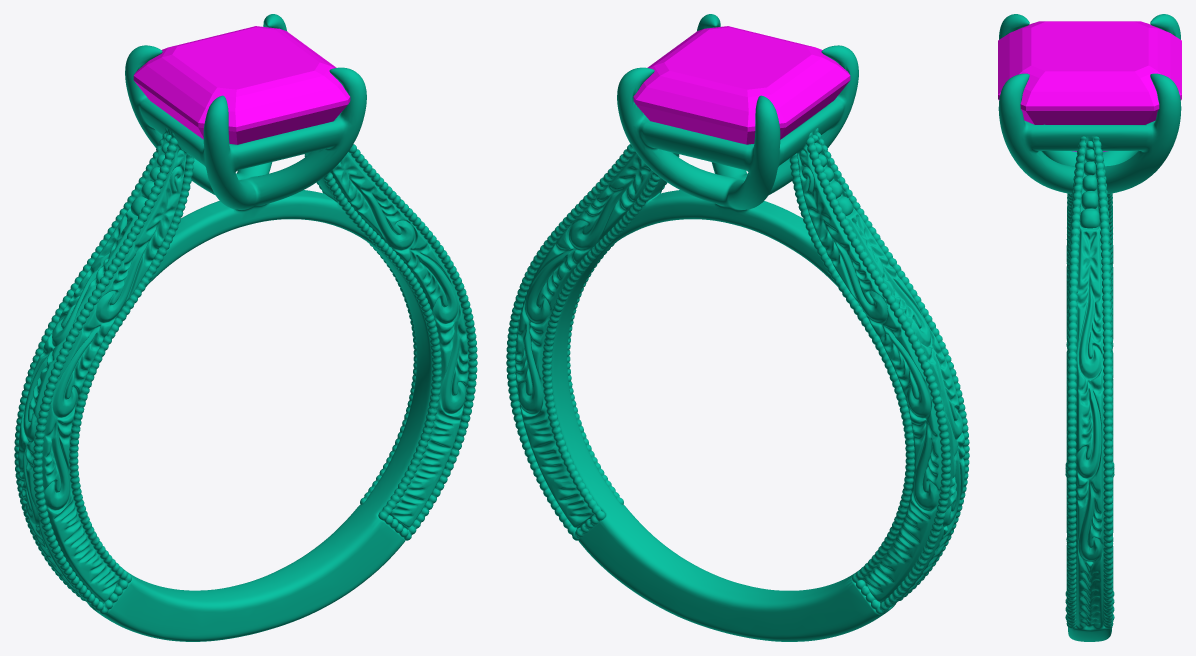
Rendered from BE1342_AS_200ct_RENDER.glb.
The picture shows the model from 3 angles, left to right: view 1: azimuth 30°, elevation 25°; view 2: azimuth 150°, elevation 25°; view 3: azimuth 270°, elevation 25°; orthographic projection.
Parts seen in each view (by area): view 1: Metal 01, CS_Diamond_Asscher; view 2: Metal 01, CS_Diamond_Asscher; view 3: Metal 01, CS_Diamond_Asscher.
Boxes of the visible parts, box(x1,y1,x2,y2) form: Metal 01: box(14, 14, 477, 641); CS_Diamond_Asscher: box(133, 26, 350, 144); Metal 01: box(506, 14, 969, 641); CS_Diamond_Asscher: box(633, 26, 850, 144); Metal 01: box(998, 14, 1181, 641); CS_Diamond_Asscher: box(998, 21, 1181, 151).
Size of the model in its own units: 20.82 by 25.63 by 7.5.
